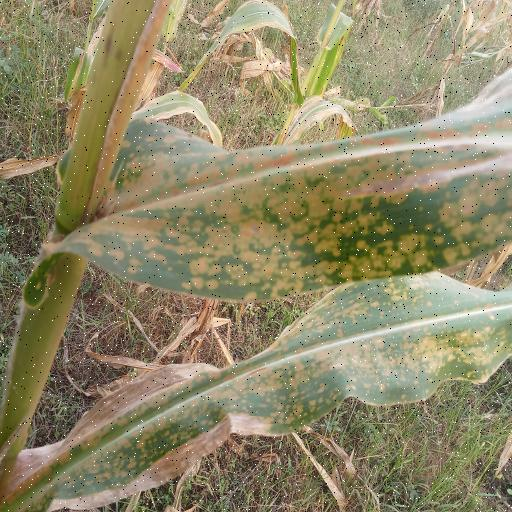Corn_Yellow_Spots: (98, 69, 512, 305)
